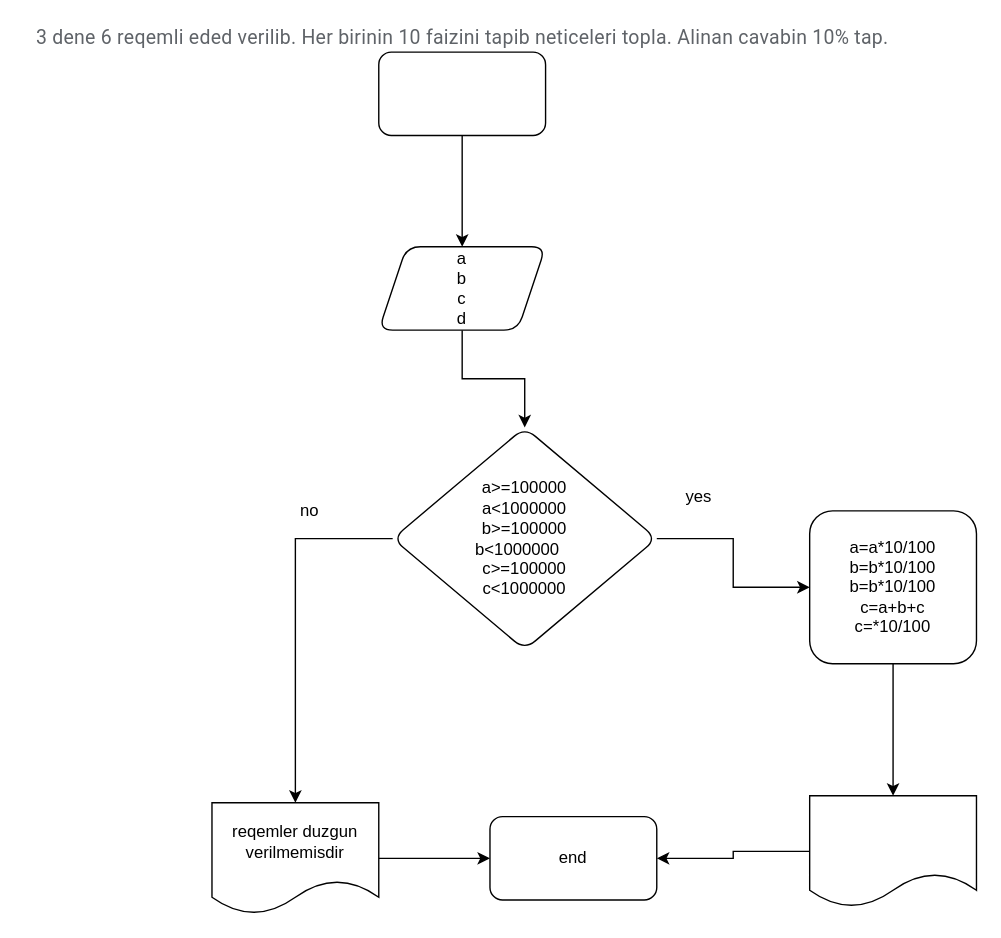
Image size: 1001x938. Some labels were removed from this diagram. Here are the shapes that lost their labels. From the top down, the centre of each, then its label:
[461,93]: start
[892,850]: cavab v
